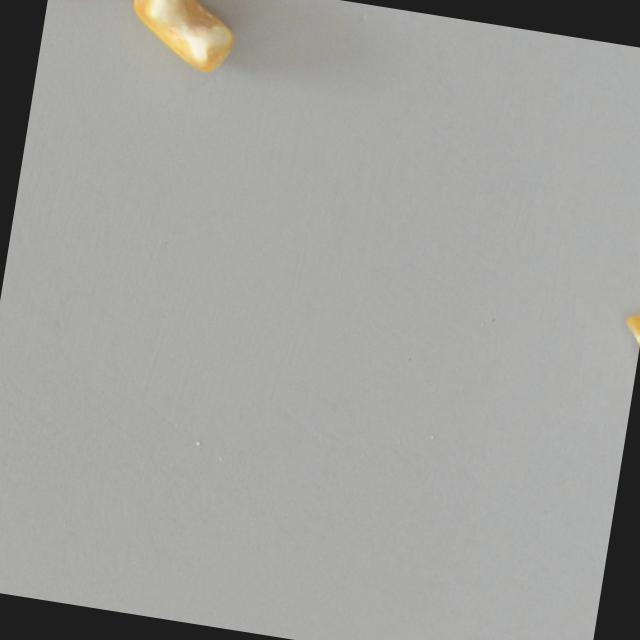dañado: (120, 0, 245, 82), (611, 278, 640, 384)
